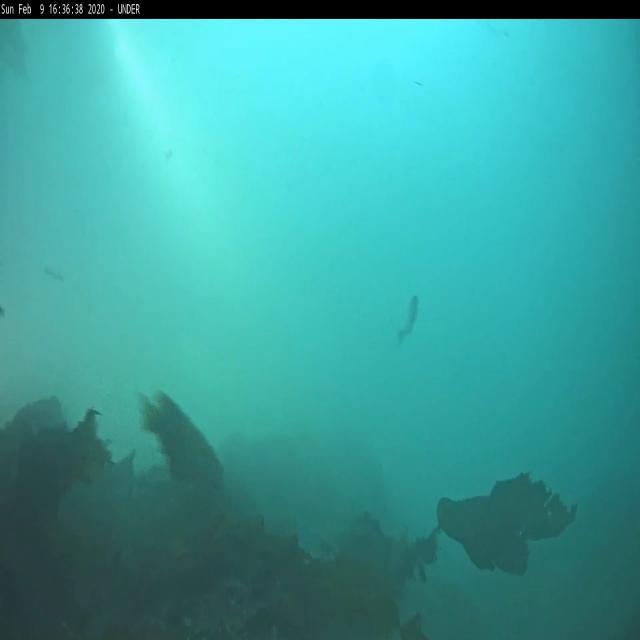fish: (396, 296, 419, 344)
